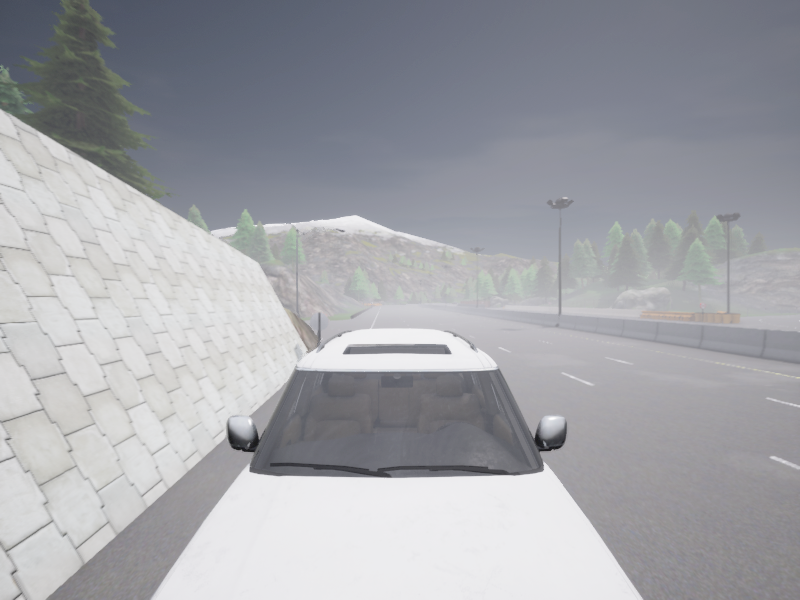vehicle: (150, 328, 642, 599), (453, 302, 457, 304)
